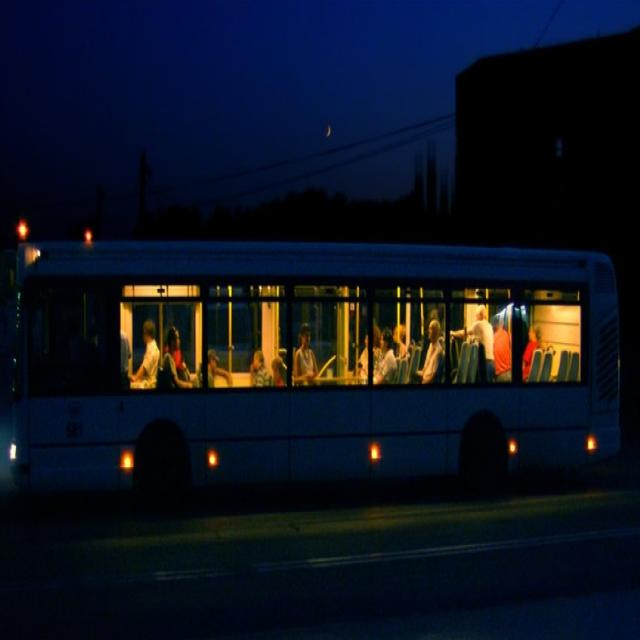Bus: (5, 230, 637, 515)
People: (164, 313, 199, 410), (133, 287, 163, 399), (395, 305, 412, 392), (360, 315, 376, 389), (422, 325, 433, 343)
